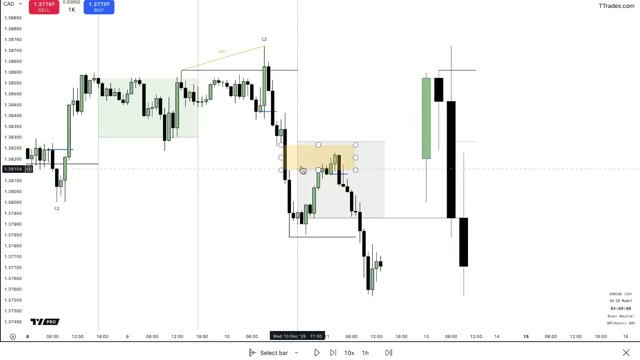liquidity_sweep_low: (287, 144, 356, 171)
